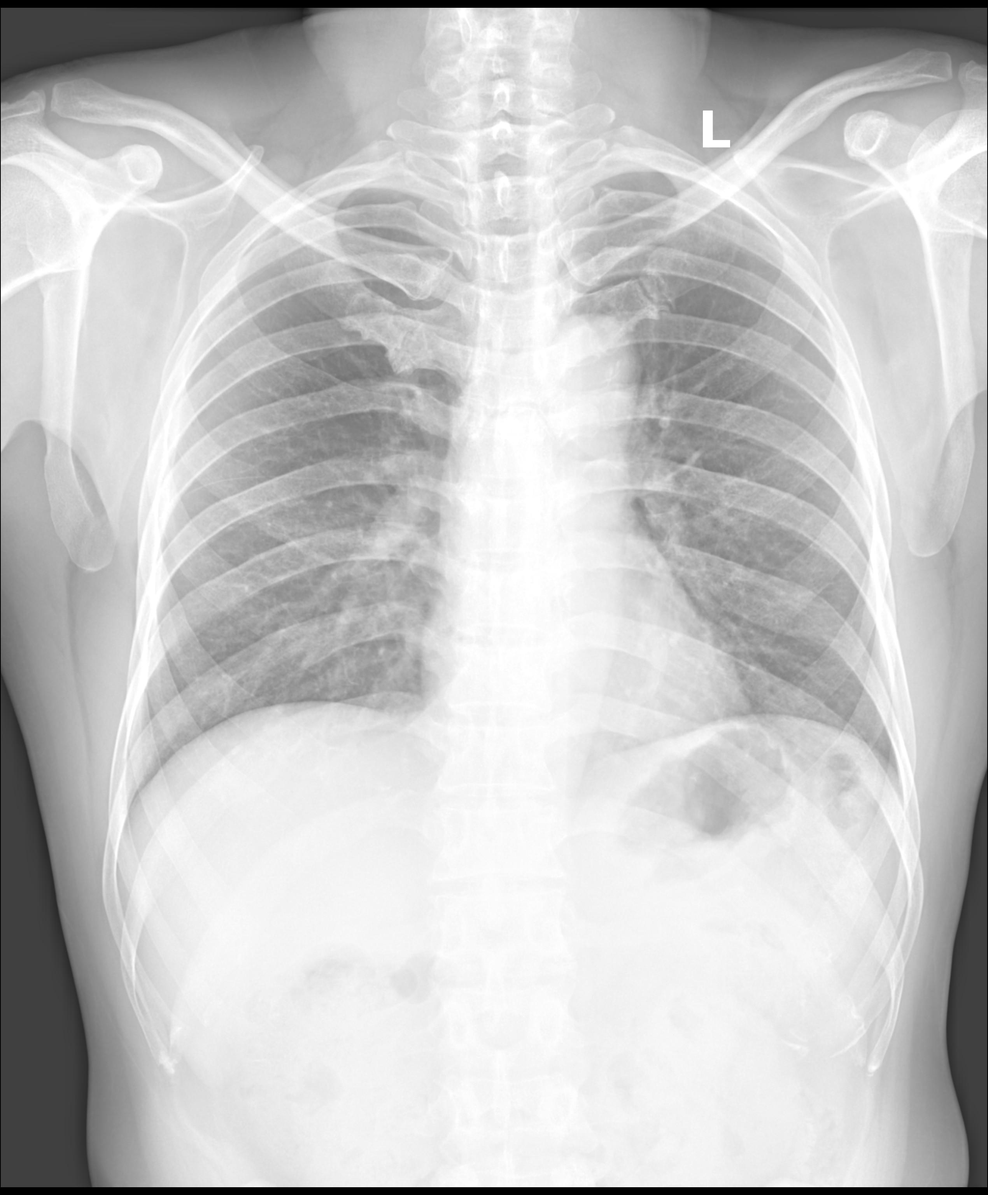Aortic enlargement: (525, 315, 642, 433)
